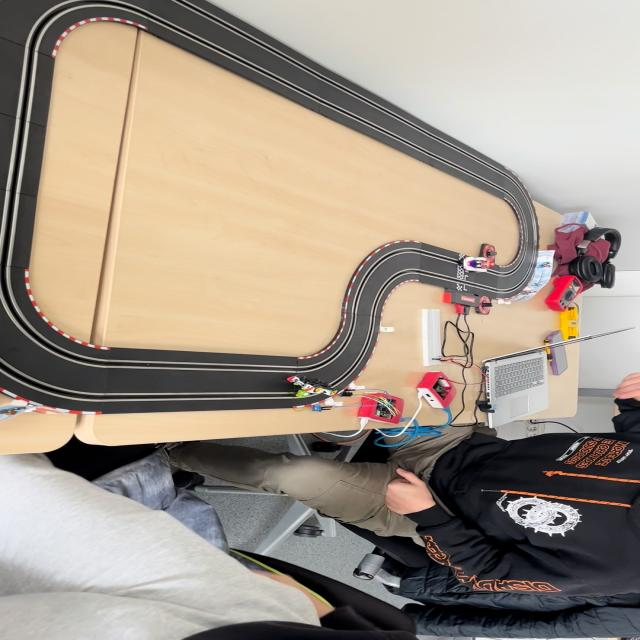mario: (463, 256, 497, 275)
yoshi: (282, 372, 340, 398)
